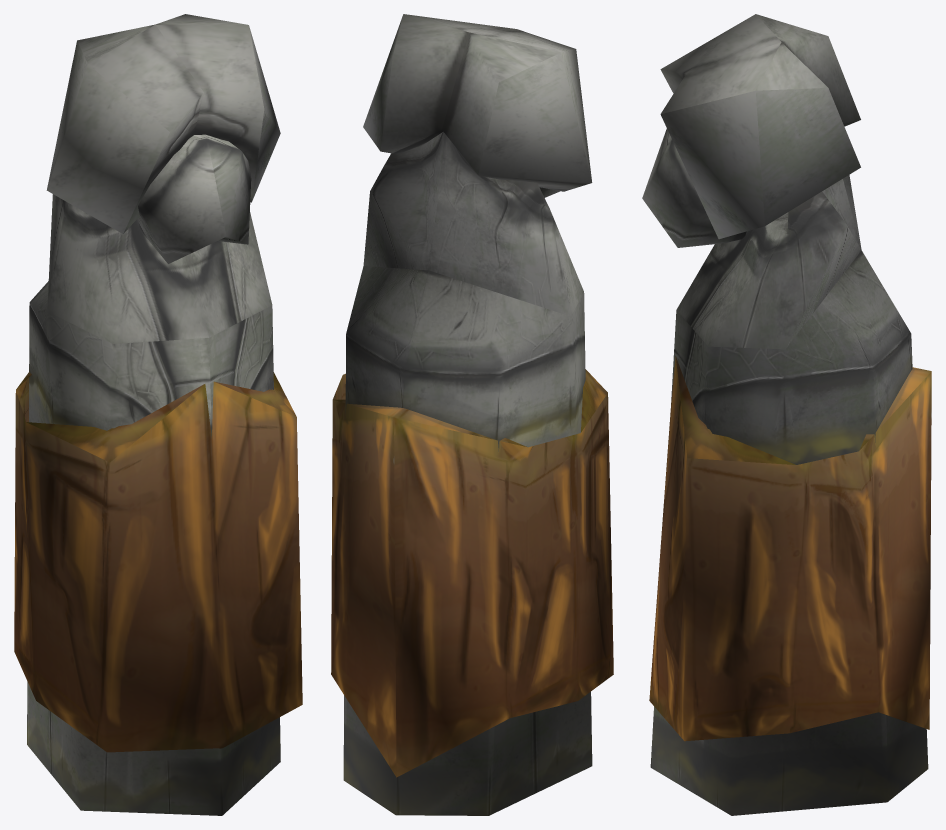
The model's file is 1_Estatua_LOD_1.fbx.
The picture shows the model from 3 angles, left to right: view 1: azimuth 30°, elevation 25°; view 2: azimuth 150°, elevation 25°; view 3: azimuth 270°, elevation 25°; orthographic projection. The views are drawn at different scales.
Visible parts, largest first — view 1: 1_Estatua_LOD_1; view 2: 1_Estatua_LOD_1; view 3: 1_Estatua_LOD_1.
Part boxes in pixels (x1,y1,x2,y2): 1_Estatua_LOD_1: (14, 14, 302, 815); 1_Estatua_LOD_1: (331, 14, 613, 815); 1_Estatua_LOD_1: (642, 14, 931, 815).
Bounding box in the file's own units: 57.46 × 168 × 60.7.
